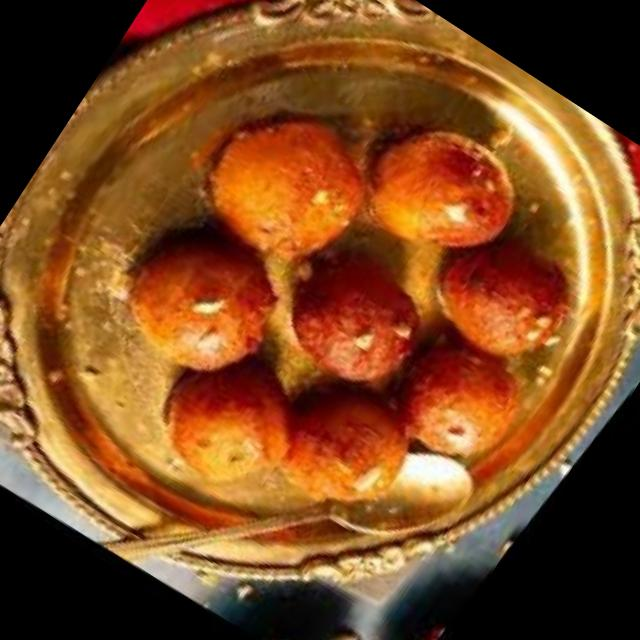gulab_jamun: (184, 84, 393, 292), (107, 212, 306, 406), (345, 103, 536, 286), (144, 336, 328, 516), (264, 234, 446, 412), (258, 363, 434, 538), (416, 216, 593, 386), (377, 326, 544, 489)
